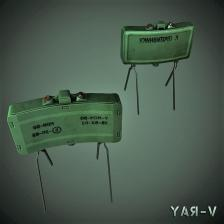MOH-50: (4, 82, 130, 219), (109, 14, 208, 125)
